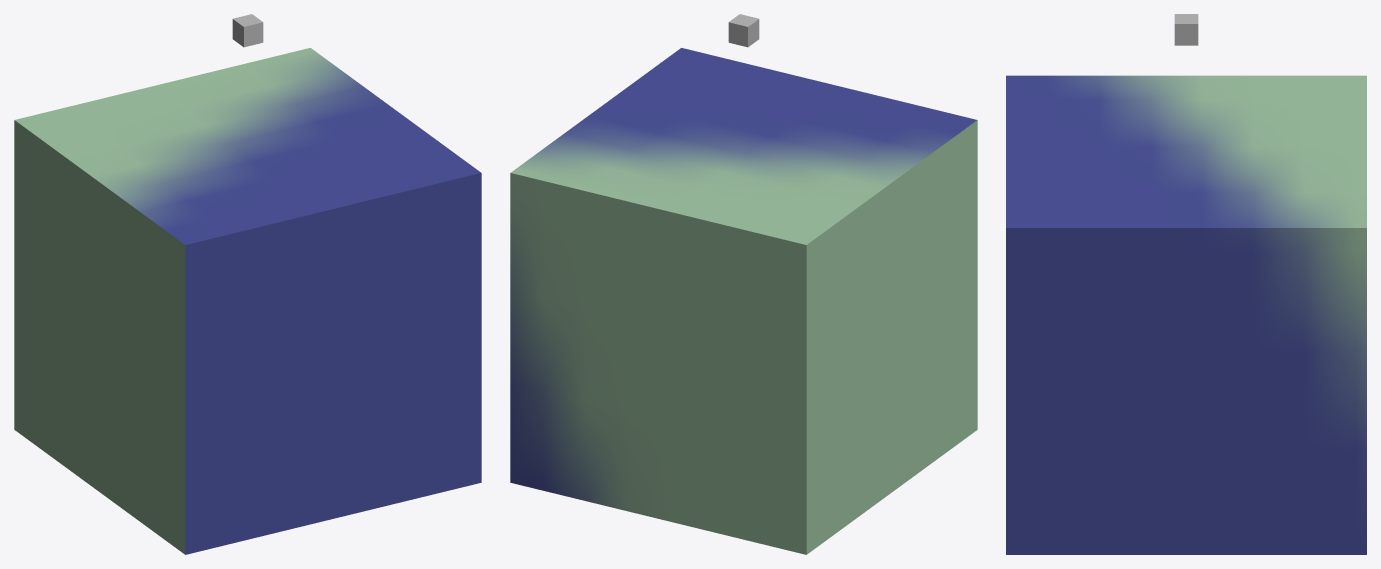
Rendered from thing.fbx.
3 views of the same model, side by side, from view 1: azimuth 30°, elevation 25°; view 2: azimuth 150°, elevation 25°; view 3: azimuth 270°, elevation 25° (orthographic). The views are drawn at different scales.
Parts seen in each view (by area): view 1: Cube, pCube1; view 2: Cube, pCube1; view 3: Cube, pCube1.
Boxes of the visible parts, bbox=[...] form: Cube: bbox=[14, 48, 481, 554]; pCube1: bbox=[232, 14, 263, 47]; Cube: bbox=[510, 48, 977, 554]; pCube1: bbox=[728, 14, 759, 47]; Cube: bbox=[1006, 75, 1366, 554]; pCube1: bbox=[1174, 14, 1198, 45].
Size of the model in its own units: 15.16 by 21.33 by 15.16.
Materials: 2 (1 with a texture image).
